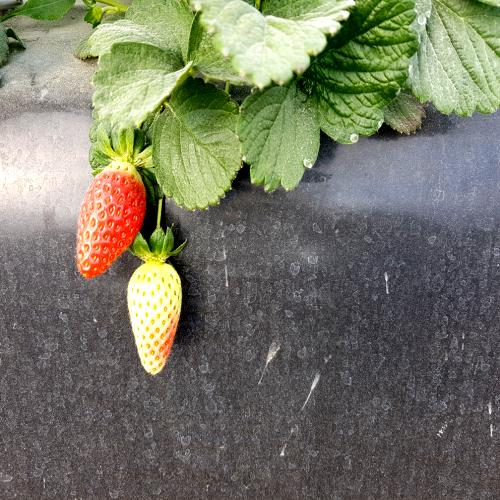partially-ripe: (126, 263, 184, 380)
